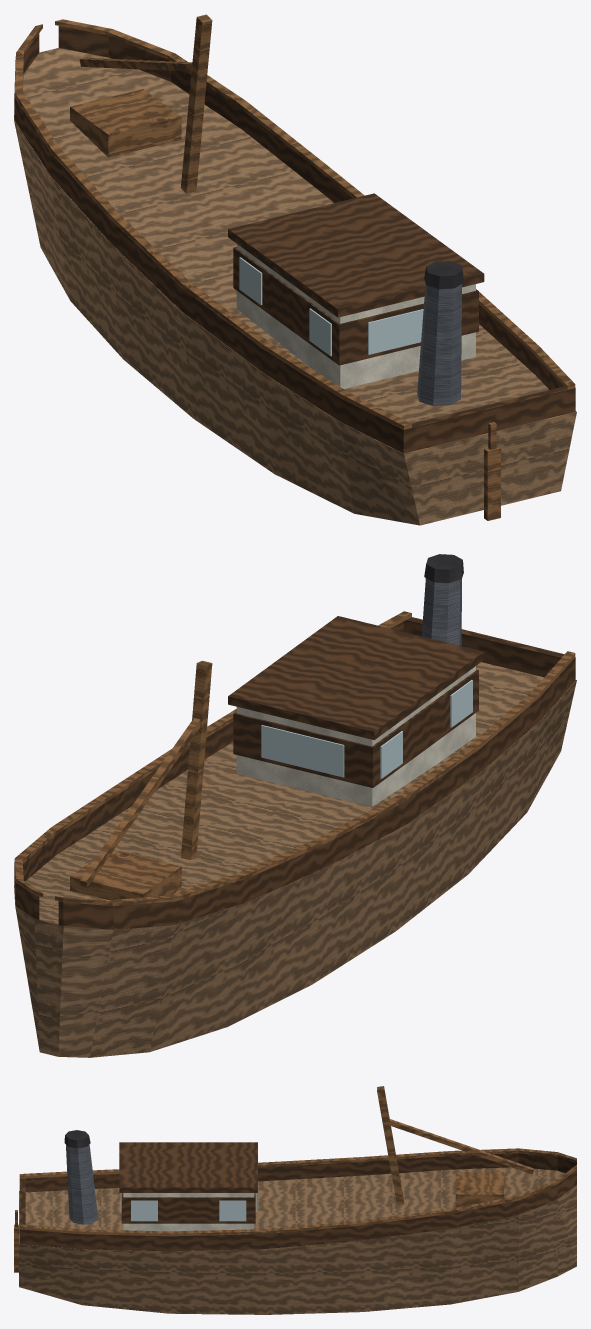
File: wooden_boat_1960.fbx
3 renders of one model, top to bottom at view 1: azimuth 30°, elevation 25°; view 2: azimuth 150°, elevation 25°; view 3: azimuth 270°, elevation 25°, orthographic. The views are drawn at different scales.
Visible parts, largest first — view 1: wooden_boat_1960; view 2: wooden_boat_1960; view 3: wooden_boat_1960.
Part boxes in pixels (box(x1,y1,x2,y2)): wooden_boat_1960: box(14, 14, 576, 525); wooden_boat_1960: box(14, 554, 576, 1057); wooden_boat_1960: box(14, 1086, 576, 1314).
Size of the model in its own units: 340 by 446 by 1160.
